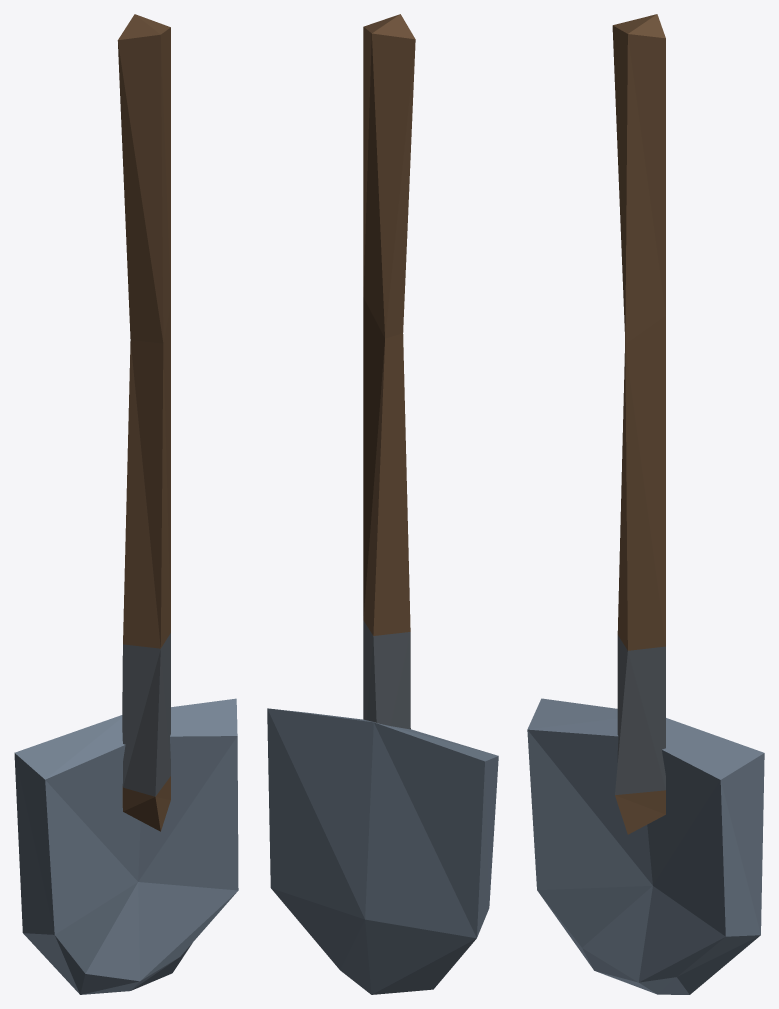
File: shovel.fbx
3 views of the same model, side by side, from view 1: azimuth 30°, elevation 25°; view 2: azimuth 150°, elevation 25°; view 3: azimuth 330°, elevation 25° (orthographic). The views are drawn at different scales.
Parts seen in each view (by area): view 1: shovel; view 2: shovel; view 3: shovel.
Part boxes in pixels (x1,y1,x2,y2): shovel: [14, 14, 238, 994]; shovel: [267, 14, 498, 994]; shovel: [527, 14, 764, 994].
Size of the model in its own units: 0.9554 by 4.02 by 0.3187.
